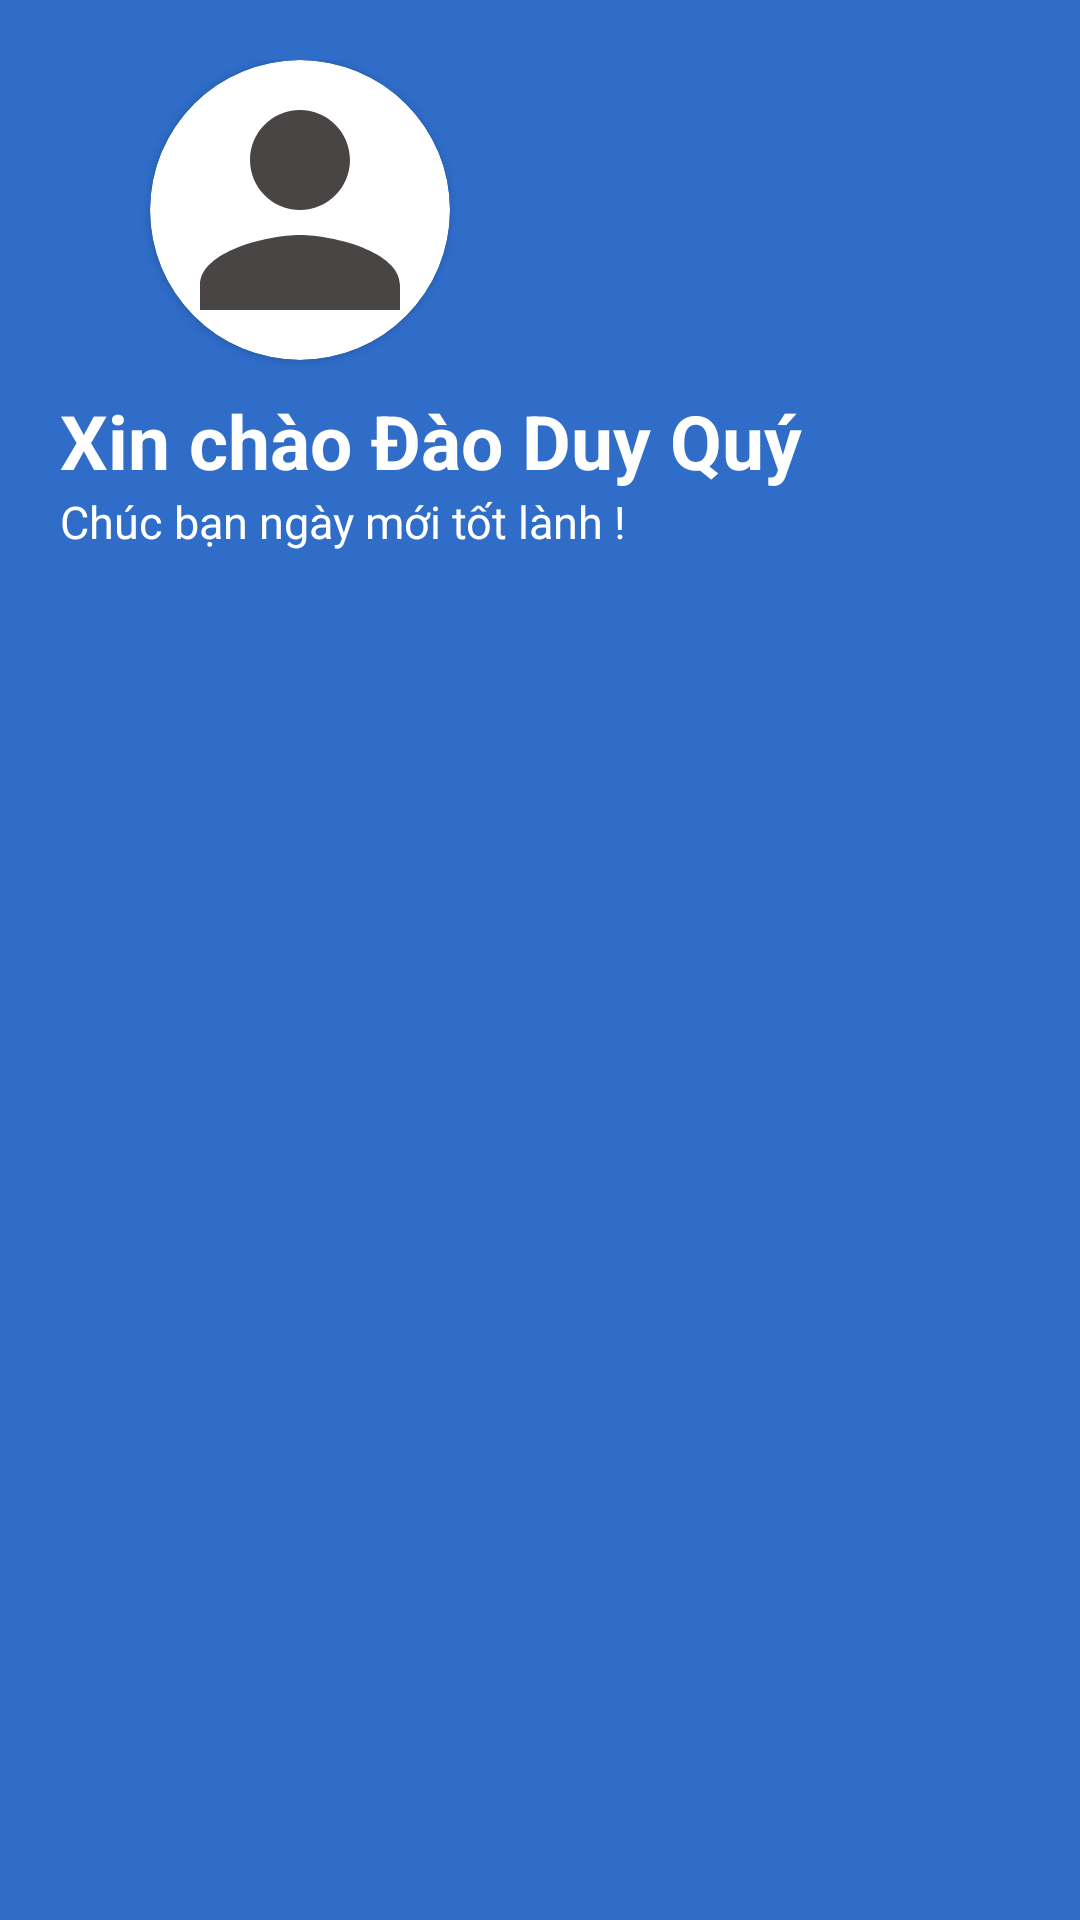

Icons on this 1080px×1920px Android screen, each with its box as detection(x1, y1, x2, y2):
person: detection(150, 60, 450, 360)
